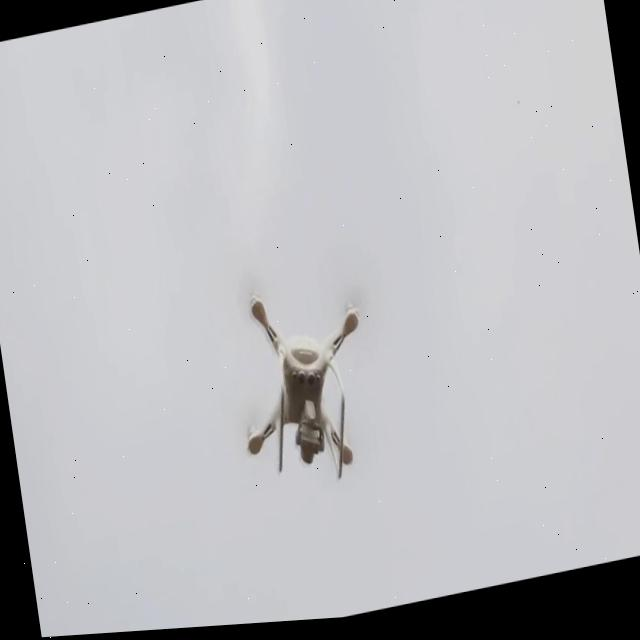drone: (140, 229, 436, 556)
